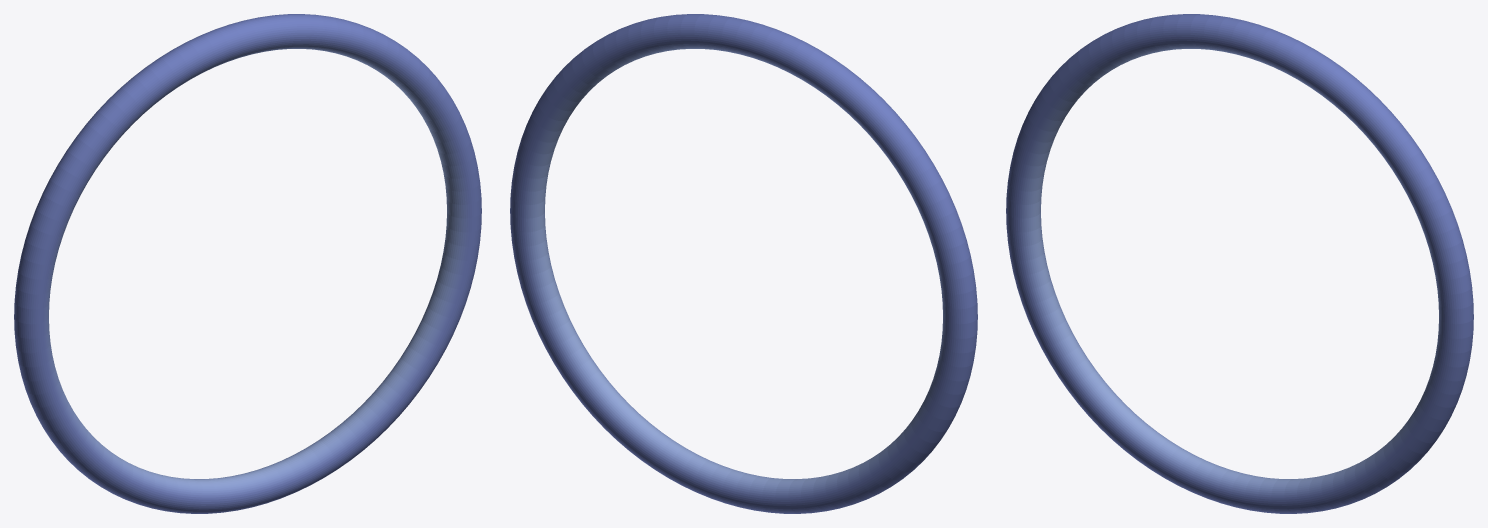
3 renders of one model, left to right at view 1: azimuth 30°, elevation 25°; view 2: azimuth 150°, elevation 25°; view 3: azimuth 330°, elevation 25°, orthographic.
Parts seen in each view (by area): view 1: world; view 2: world; view 3: world.
Boxes of the visible parts, x1,y1,x2,y2 form: world: (14,14,481,513); world: (510,14,977,513); world: (1006,14,1473,513).
Size of the model in its own units: 30.67 by 30.67 by 2.
